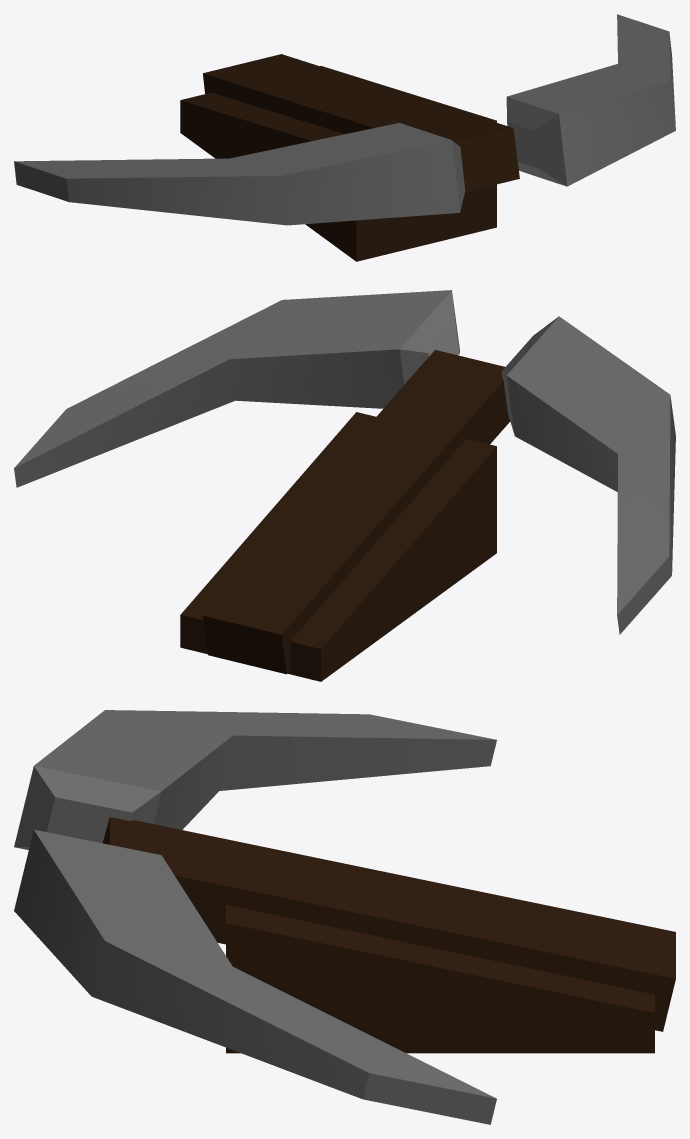
Rendered from Balistar.FBX.
3 views of the same model, one above another, from view 1: azimuth 30°, elevation 25°; view 2: azimuth 150°, elevation 25°; view 3: azimuth 270°, elevation 25° (orthographic). The views are drawn at different scales.
Parts seen in each view (by area): view 1: Box002; view 2: Box002; view 3: Box002.
Boxes of the visible parts, x1,y1,x2,y2 form: Box002: (14,14,675,261); Box002: (14,290,675,681); Box002: (14,710,675,1124).
Size of the model in its own units: 107 by 29.73 by 83.49.
